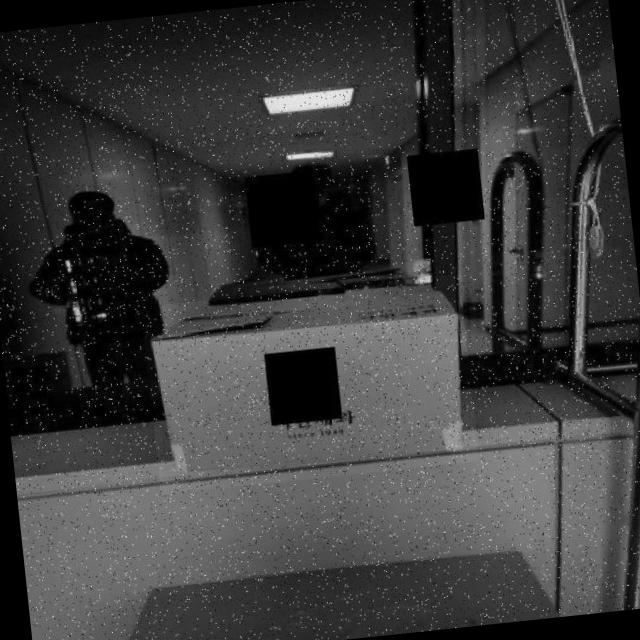box: (140, 273, 478, 494)
